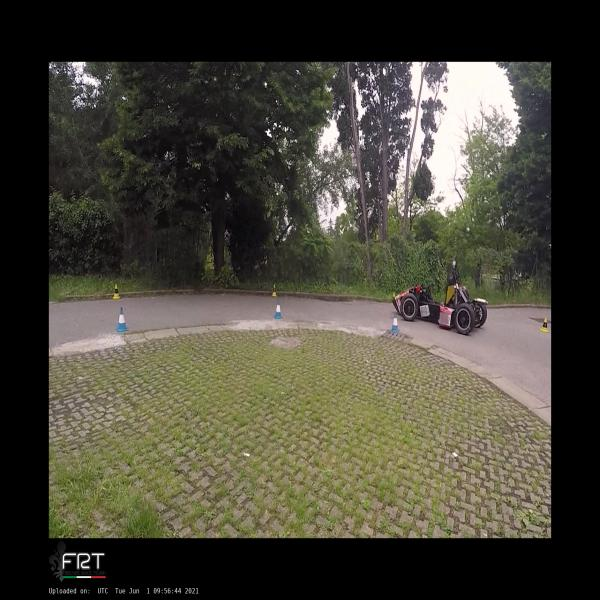blue_cone: (116, 307, 128, 332), (390, 315, 399, 333), (274, 301, 282, 318)
yellow_cone: (540, 316, 550, 333), (113, 284, 120, 298), (272, 284, 277, 297), (391, 292, 395, 305)
